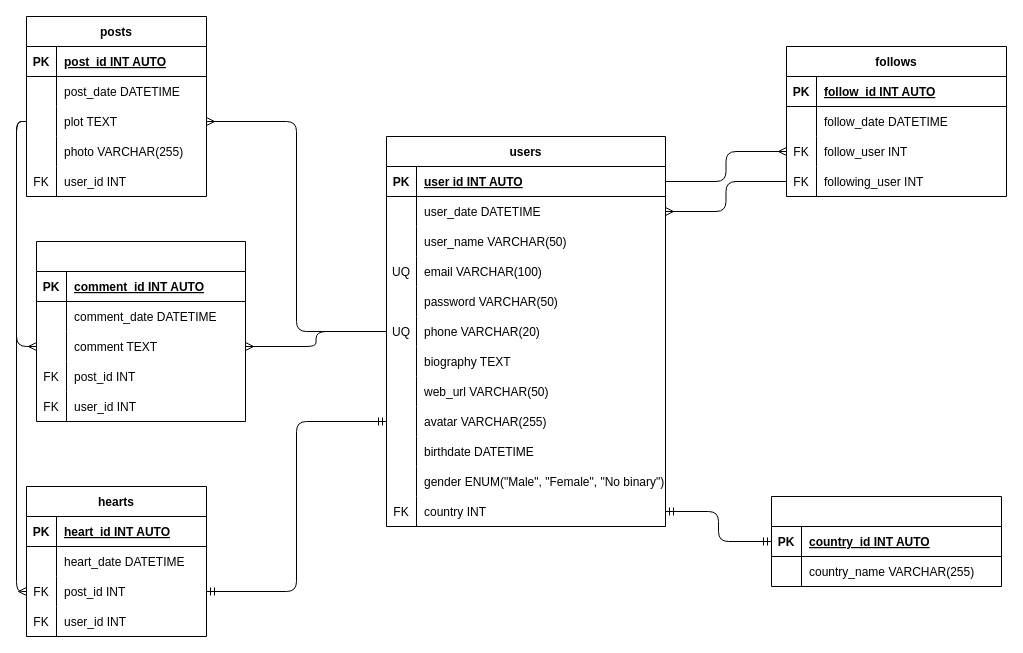
Image size: 1023x653. Some labels were removed from this diagram. The box of each missing label's shape, as (x1, y1, x2, y2) in pixels:
comments: (36, 240, 246, 422)
countries: (770, 496, 1002, 586)
